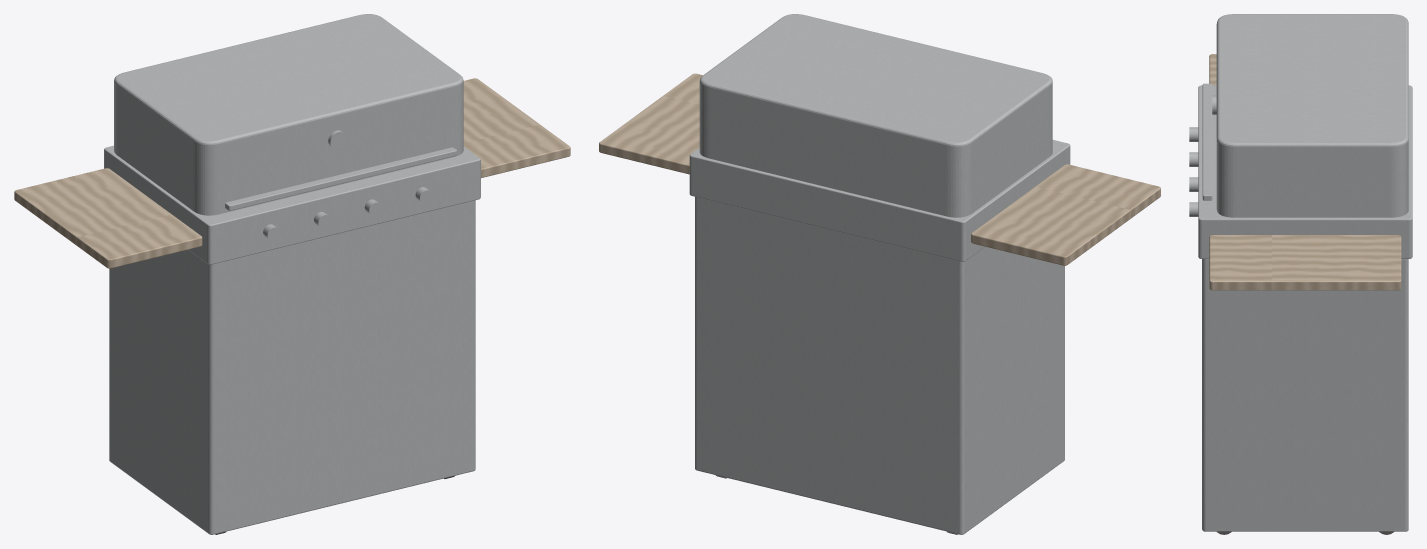
The model's file is kowhai-hero-out-03.glb.
The picture shows the model from 3 angles, left to right: view 1: azimuth 30°, elevation 25°; view 2: azimuth 150°, elevation 25°; view 3: azimuth 270°, elevation 25°; orthographic projection.
Visible parts, largest first — view 1: BBQ_StainlessBaseCabinet, BBQ_RollTopStainlessHood, BBQ_FireboxAndControlFascia, BBQ_OtagoAshSideShelf_1, BBQ_OtagoAshSideShelf_2, SubPart; view 2: BBQ_StainlessBaseCabinet, BBQ_RollTopStainlessHood, BBQ_FireboxAndControlFascia, BBQ_OtagoAshSideShelf_1, BBQ_OtagoAshSideShelf_2; view 3: BBQ_StainlessBaseCabinet, BBQ_RollTopStainlessHood, BBQ_OtagoAshSideShelf_2, BBQ_FireboxAndControlFascia, SubPart.
Boxes of the visible parts, left/top/right/bottom form: BBQ_StainlessBaseCabinet: left=109, top=200, right=475, bottom=534; BBQ_RollTopStainlessHood: left=114, top=14, right=463, bottom=215; BBQ_FireboxAndControlFascia: left=104, top=145, right=480, bottom=264; BBQ_OtagoAshSideShelf_1: left=14, top=168, right=202, bottom=268; BBQ_OtagoAshSideShelf_2: left=463, top=78, right=570, bottom=177; SubPart: left=225, top=147, right=456, bottom=210; BBQ_StainlessBaseCabinet: left=695, top=197, right=1064, bottom=534; BBQ_RollTopStainlessHood: left=699, top=14, right=1052, bottom=217; BBQ_FireboxAndControlFascia: left=689, top=140, right=1070, bottom=261; BBQ_OtagoAshSideShelf_1: left=971, top=164, right=1160, bottom=265; BBQ_OtagoAshSideShelf_2: left=599, top=73, right=702, bottom=174; BBQ_StainlessBaseCabinet: left=1202, top=259, right=1408, bottom=531; BBQ_RollTopStainlessHood: left=1216, top=14, right=1408, bottom=217; BBQ_OtagoAshSideShelf_2: left=1209, top=235, right=1401, bottom=290; BBQ_FireboxAndControlFascia: left=1198, top=85, right=1412, bottom=258; SubPart: left=1202, top=83, right=1212, bottom=200.
Size of the model in its own units: 1.46 by 1.19 by 0.604.
Materials: 3 (2 with a texture image).
